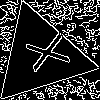X: (15, 31, 70, 77)
